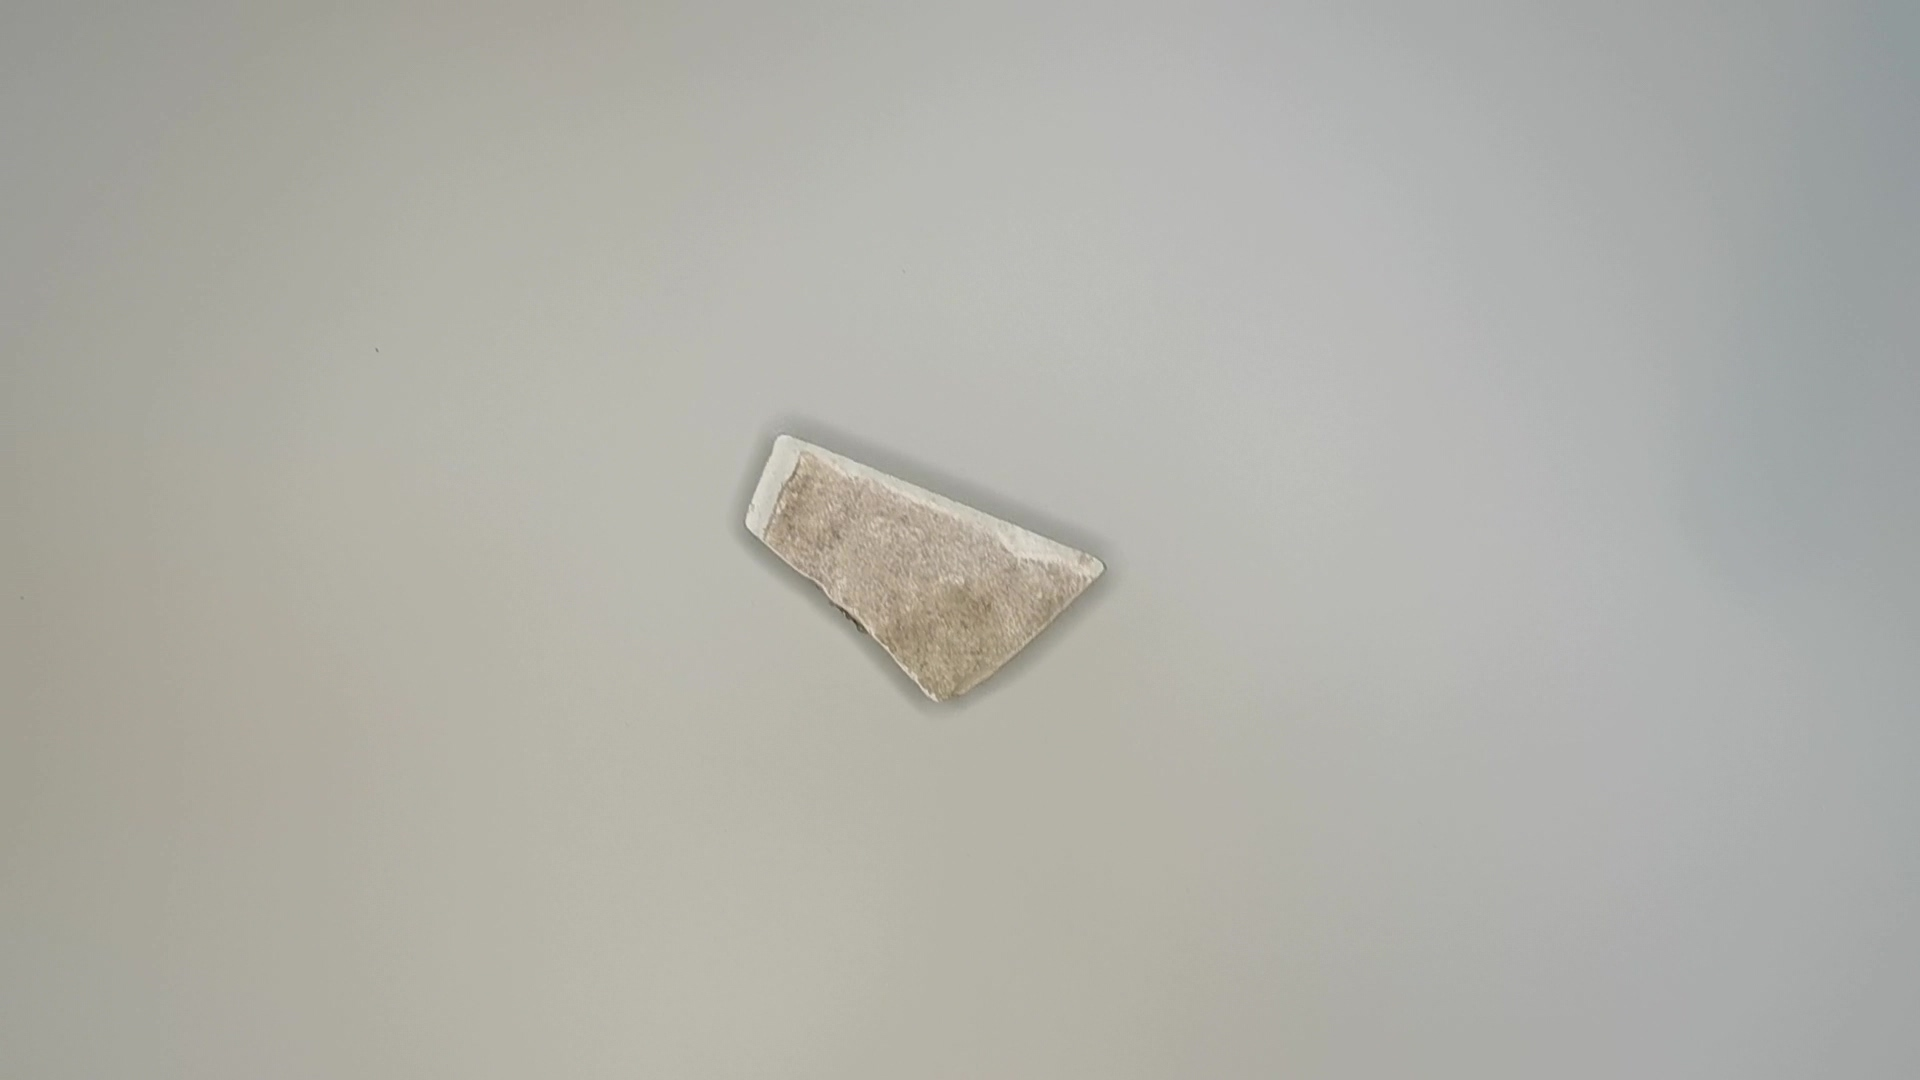ceramic: (728, 427, 1124, 719)
